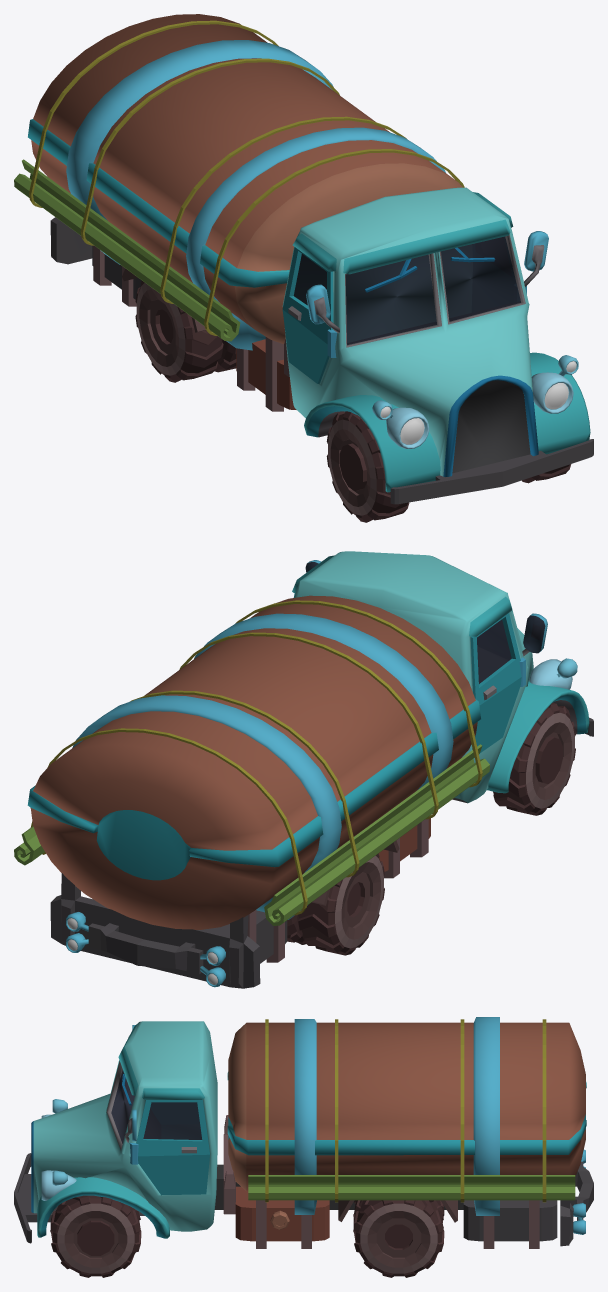
Rendered from waterTruck-transformed.glb.
3 renders of one model, top to bottom at view 1: azimuth 30°, elevation 25°; view 2: azimuth 150°, elevation 25°; view 3: azimuth 270°, elevation 25°, orthographic. The views are drawn at different scales.
Visible parts, largest first — view 1: Cube.001, Cylinder.007; view 2: Cube.001; view 3: Cube.001.
Boxes of the visible parts, bbox=[...] form: Cube.001: bbox=[14, 14, 593, 522]; Cylinder.007: bbox=[380, 361, 576, 444]; Cube.001: bbox=[14, 551, 593, 988]; Cube.001: bbox=[14, 1017, 593, 1277].
Bounding box in the file's own units: 5.84 × 5.32 × 13.37.
4 materials, 2 textured.
